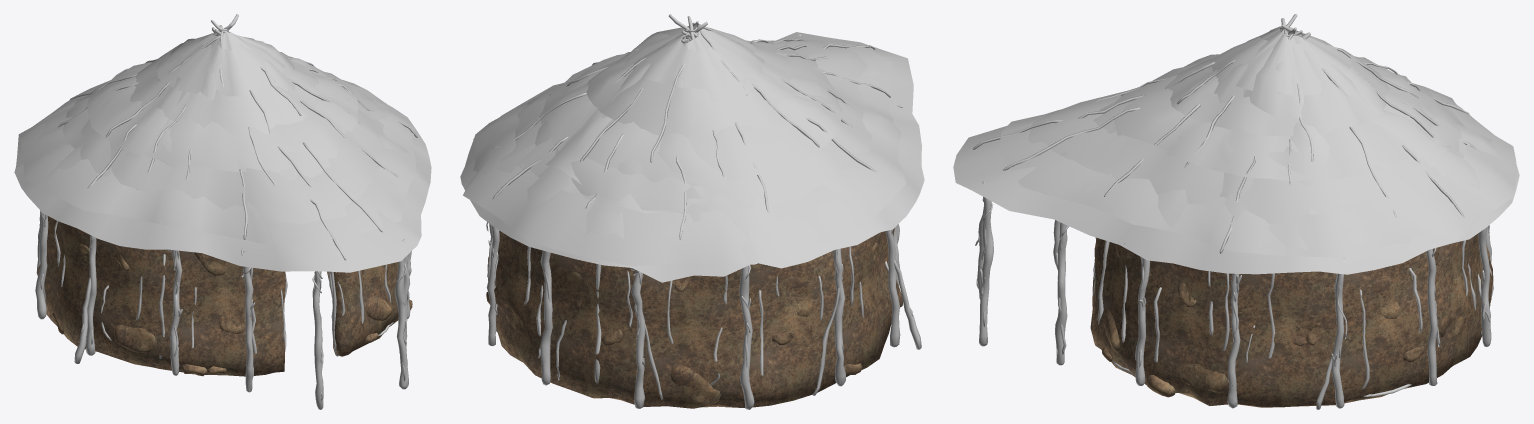
File: midpoly_african_hut_003.obj
The picture shows the model from 3 angles, left to right: view 1: azimuth 30°, elevation 25°; view 2: azimuth 150°, elevation 25°; view 3: azimuth 270°, elevation 25°; orthographic projection. The views are drawn at different scales.
Visible parts, largest first — view 1: midpoly_african_hut_002; view 2: midpoly_african_hut_002; view 3: midpoly_african_hut_002.
Part boxes in pixels (x1,y1,x2,y2): midpoly_african_hut_002: [14, 14, 431, 409]; midpoly_african_hut_002: [460, 14, 924, 409]; midpoly_african_hut_002: [953, 14, 1519, 409].
Size of the model in its own units: 4.5 by 3.32 by 5.46.
